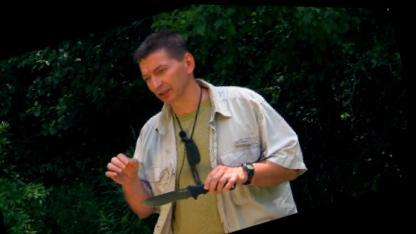knife: (136, 157, 243, 218)
